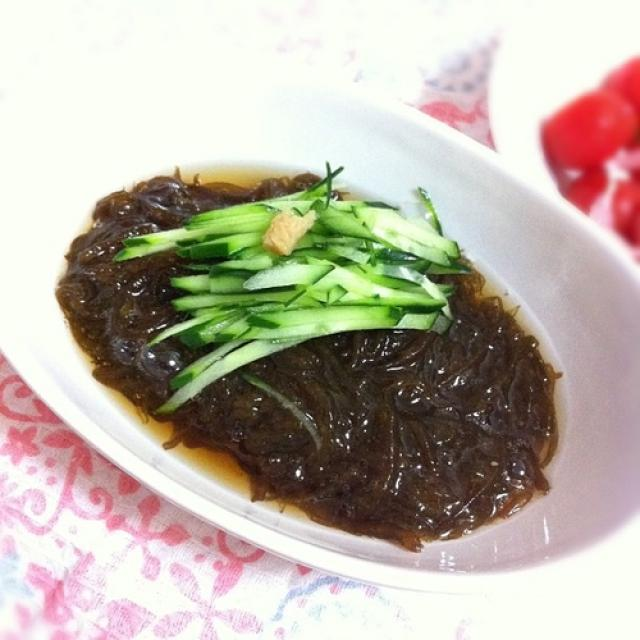蔬菜料理: (12, 55, 608, 576)
